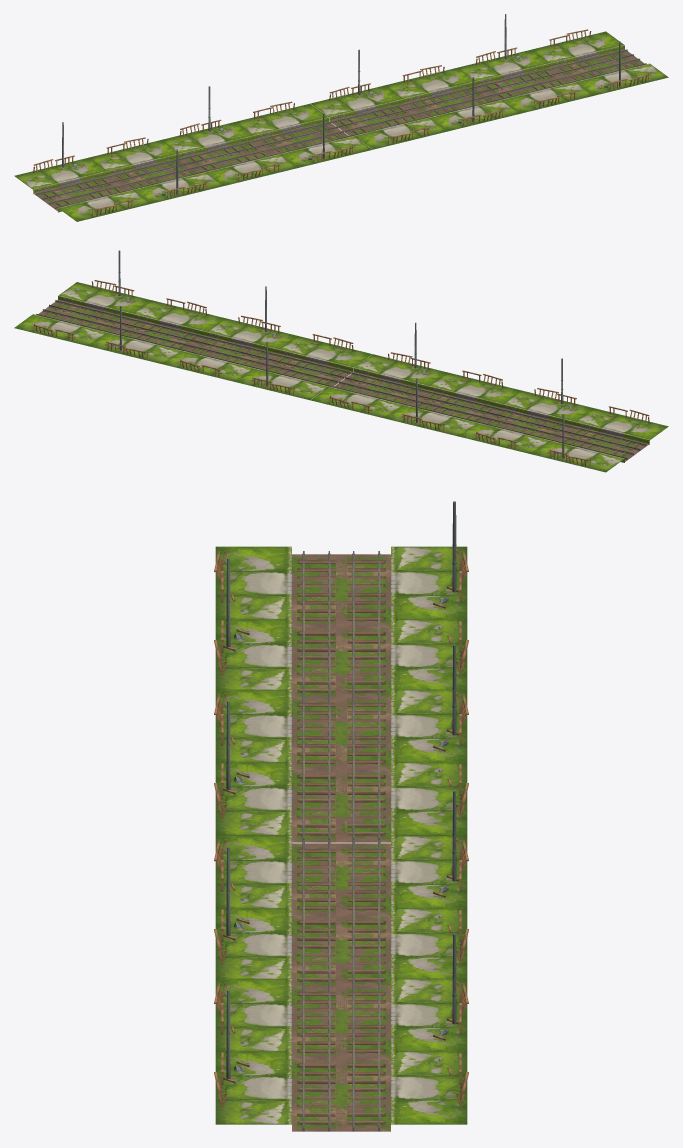
Rendered from track.glb.
3 views of the same model, one above another, from view 1: azimuth 30°, elevation 25°; view 2: azimuth 150°, elevation 25°; view 3: azimuth 270°, elevation 25° (orthographic). The views are drawn at different scales.
Parts seen in each view (by area): view 1: Object_2, Object_3; view 2: Object_2, Object_3; view 3: Object_2, Object_3.
Boxes of the visible parts, x1,y1,x2,y2 form: Object_2: (14, 41, 668, 221); Object_3: (161, 14, 637, 167); Object_2: (45, 250, 668, 472); Object_3: (14, 306, 491, 436); Object_2: (214, 501, 468, 1131); Object_3: (336, 644, 468, 1131).
Bounding box in the file's own units: 513 × 40.93 × 95.63.
1 material, 1 textured.
